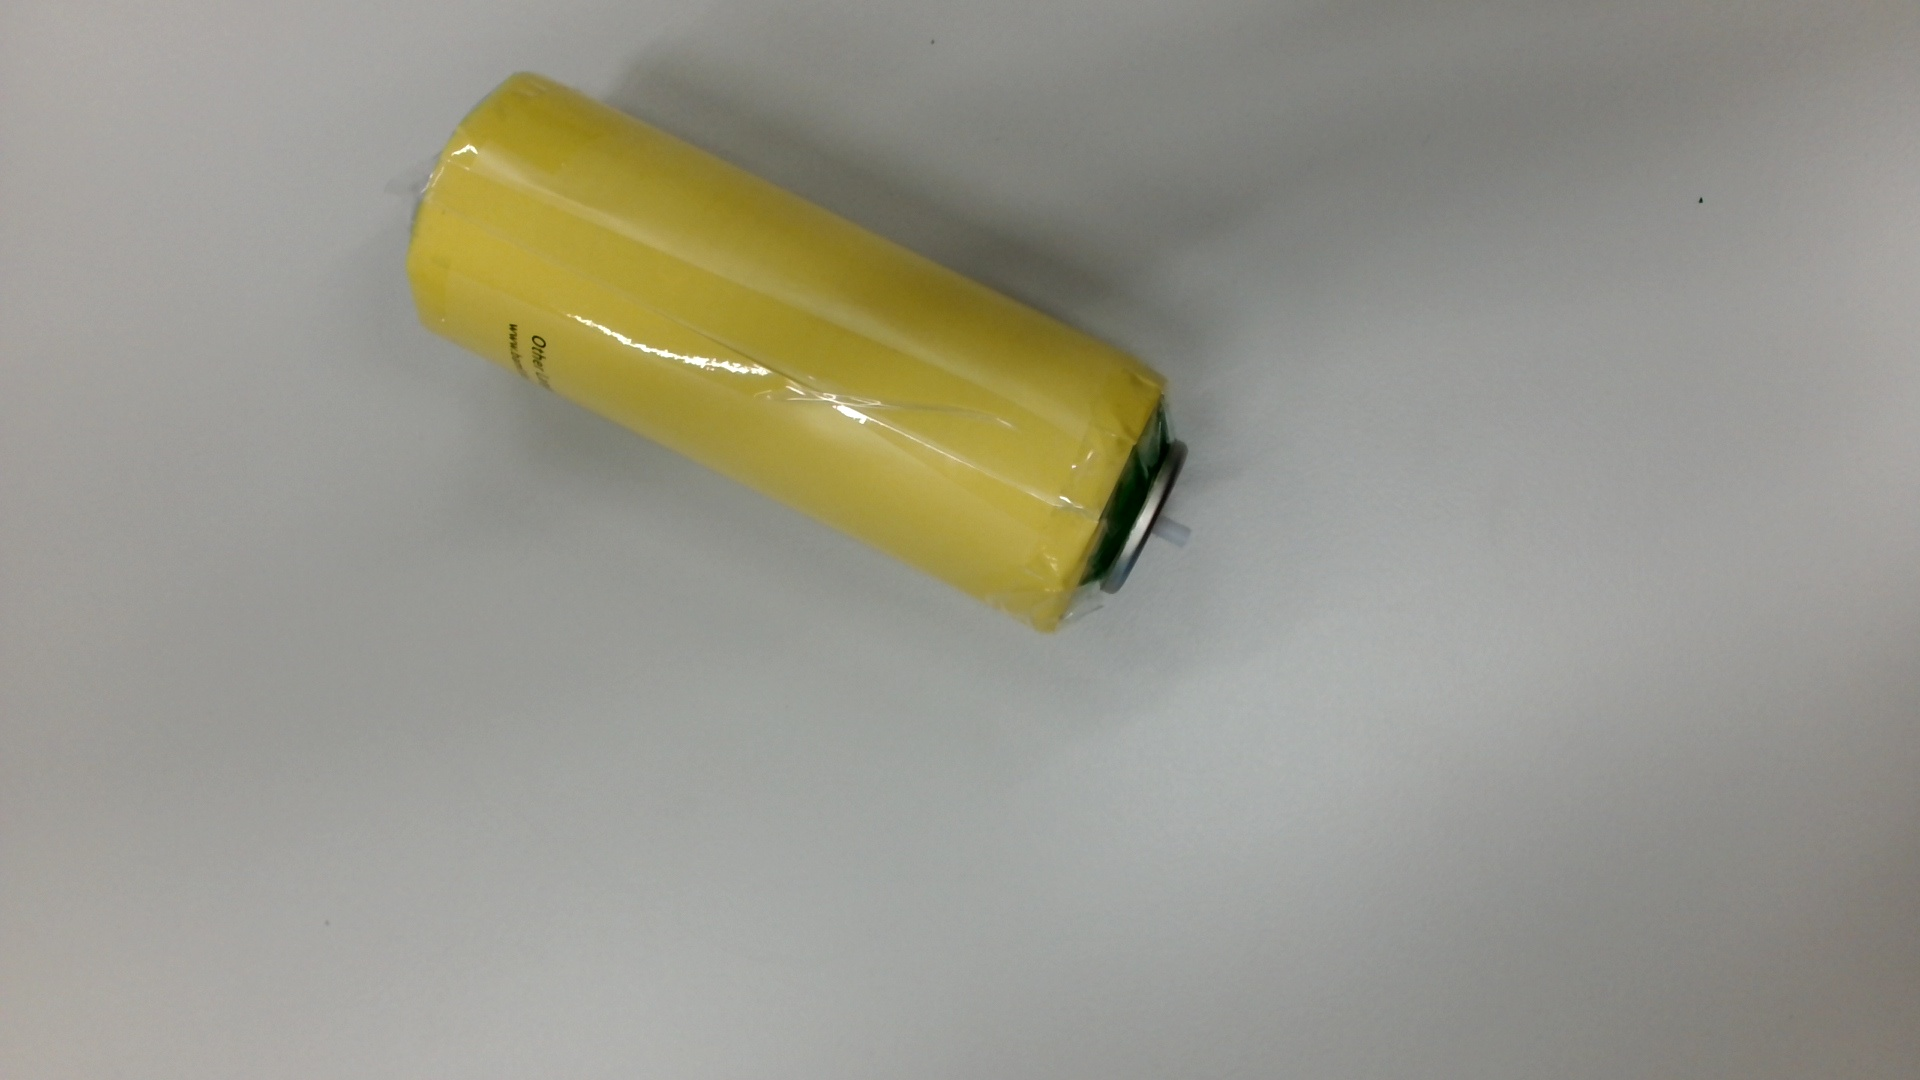Cylinder: (398, 62, 1211, 647)
